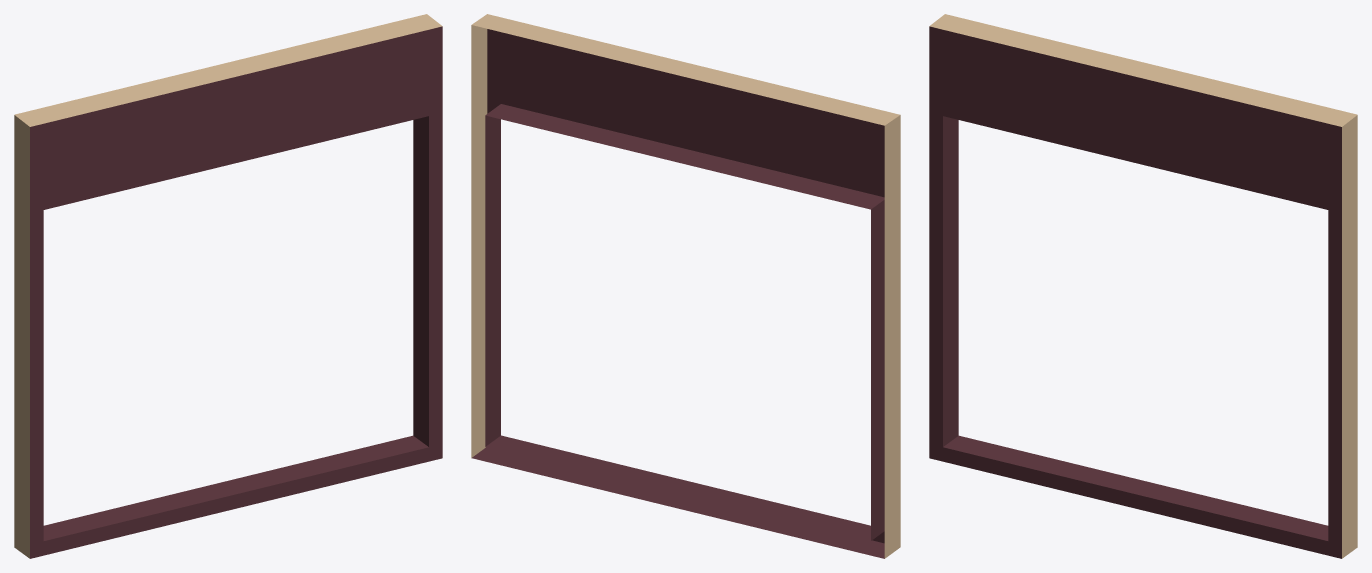
The model's file is house-wall-door-garage-3x3m.fbx.
3 renders of one model, left to right at view 1: azimuth 30°, elevation 25°; view 2: azimuth 150°, elevation 25°; view 3: azimuth 330°, elevation 25°, orthographic.
Visible parts, largest first — view 1: house-wall-door-garage-3x3m; view 2: house-wall-door-garage-3x3m; view 3: house-wall-door-garage-3x3m.
Boxes of the visible parts, <box> form: house-wall-door-garage-3x3m: <box>14,14,442,558</box>; house-wall-door-garage-3x3m: <box>471,14,900,558</box>; house-wall-door-garage-3x3m: <box>929,14,1357,558</box>.
Size of the model in its own units: 3 by 3.01 by 0.2.
